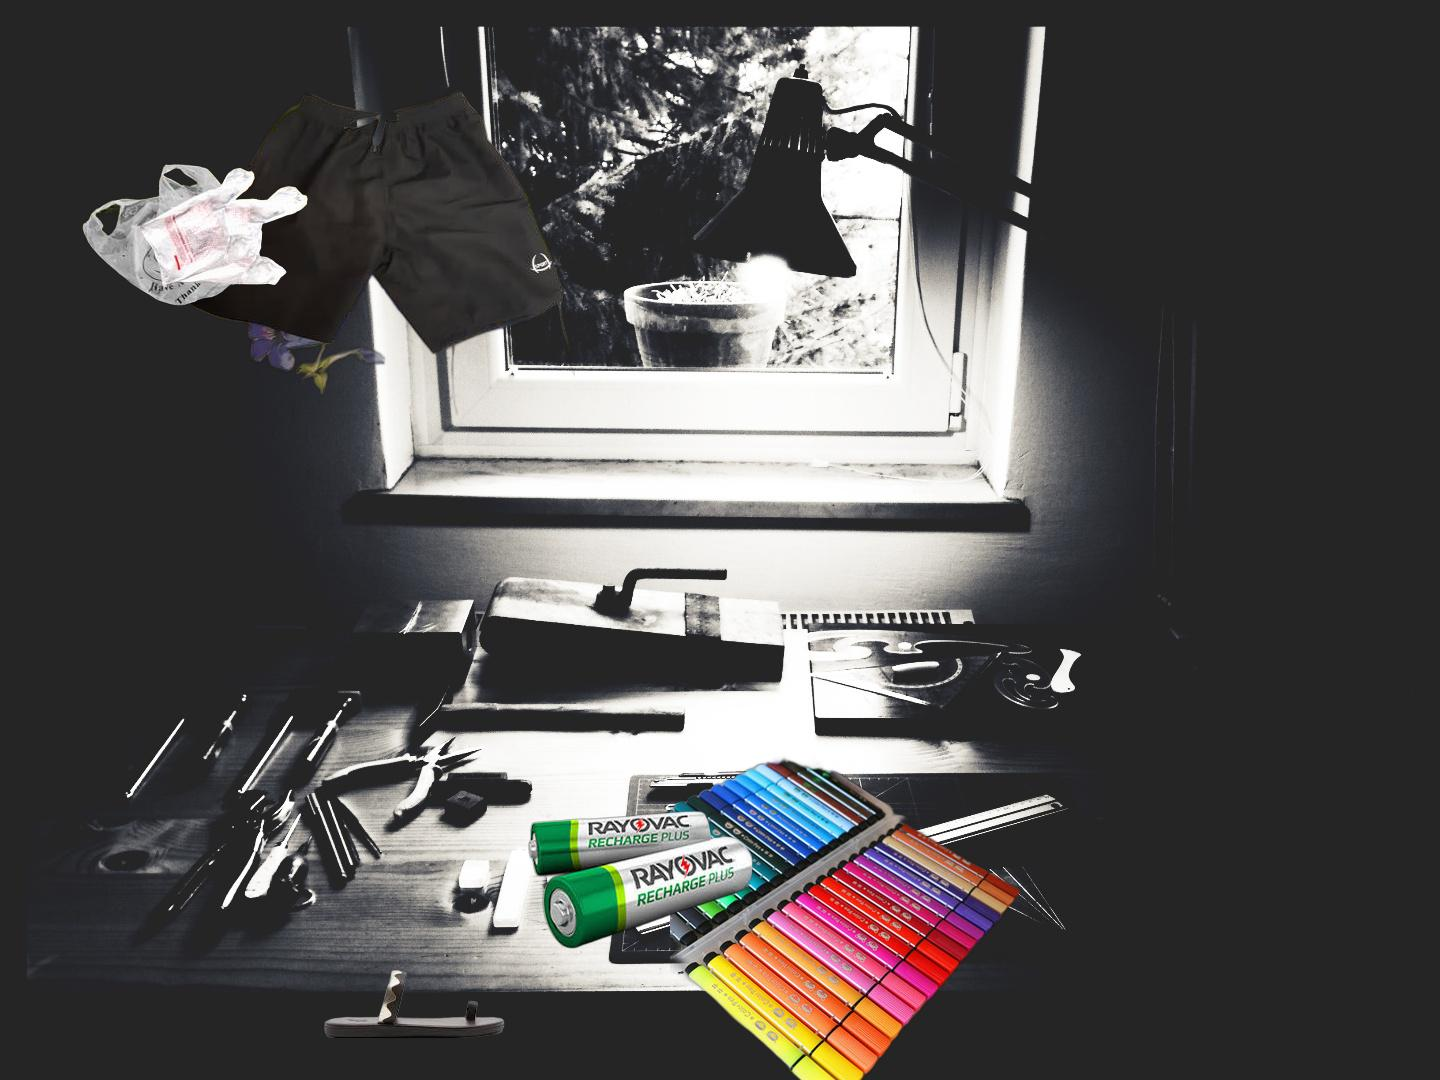battery: (526, 808, 755, 951)
clothes: (181, 87, 575, 462)
penholder: (670, 752, 1020, 1080)
plastic-bag: (79, 161, 310, 307)
shoes: (323, 967, 506, 1041)
